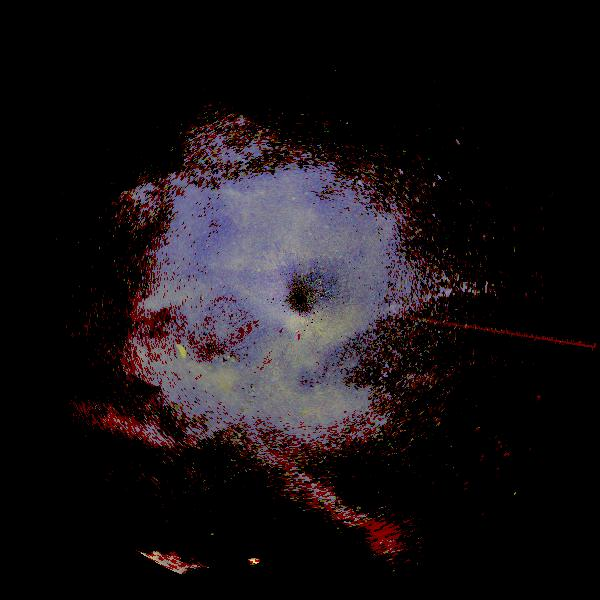roost: (141, 335, 201, 395)
